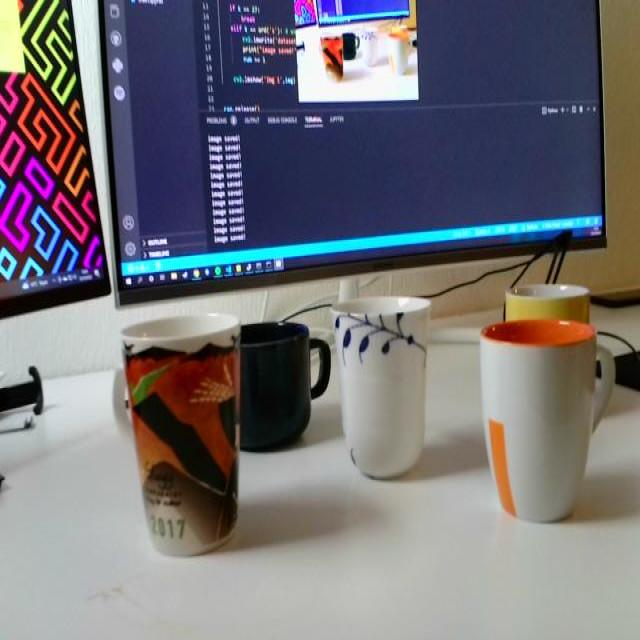cup: (106, 292, 244, 558), (467, 305, 618, 528), (323, 275, 435, 498), (238, 308, 328, 472)
